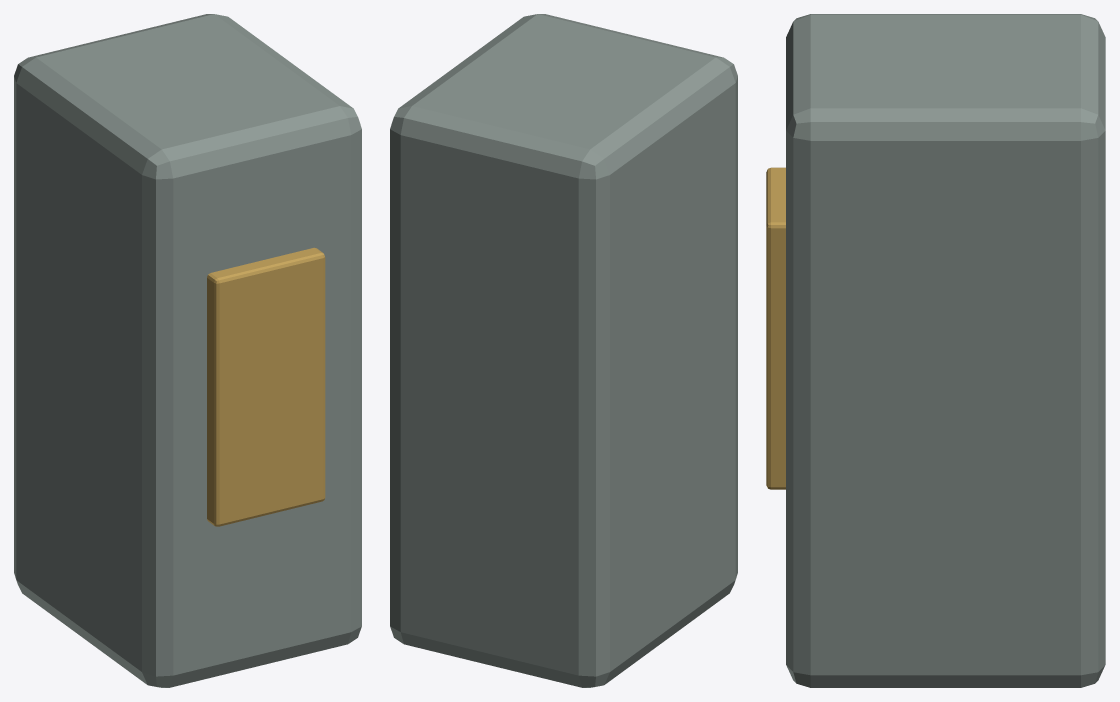
File: FilingCabinet_01.fbx
The picture shows the model from 3 angles, left to right: view 1: azimuth 30°, elevation 25°; view 2: azimuth 150°, elevation 25°; view 3: azimuth 270°, elevation 25°; orthographic projection. The views are drawn at different scales.
Visible parts, largest first — view 1: Body, Handles; view 2: Body; view 3: Body, Handles.
Boxes of the visible parts, bbox=[...] form: Body: bbox=[14, 14, 361, 687]; Handles: bbox=[207, 247, 325, 526]; Body: bbox=[390, 14, 737, 687]; Body: bbox=[786, 14, 1105, 687]; Handles: bbox=[766, 167, 785, 489].
Bounding box in the file's own units: 0.55 × 1.3 × 0.69.
